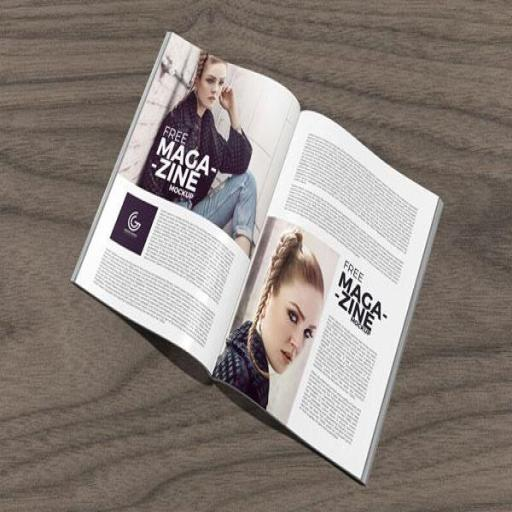paper: (72, 34, 445, 490)
